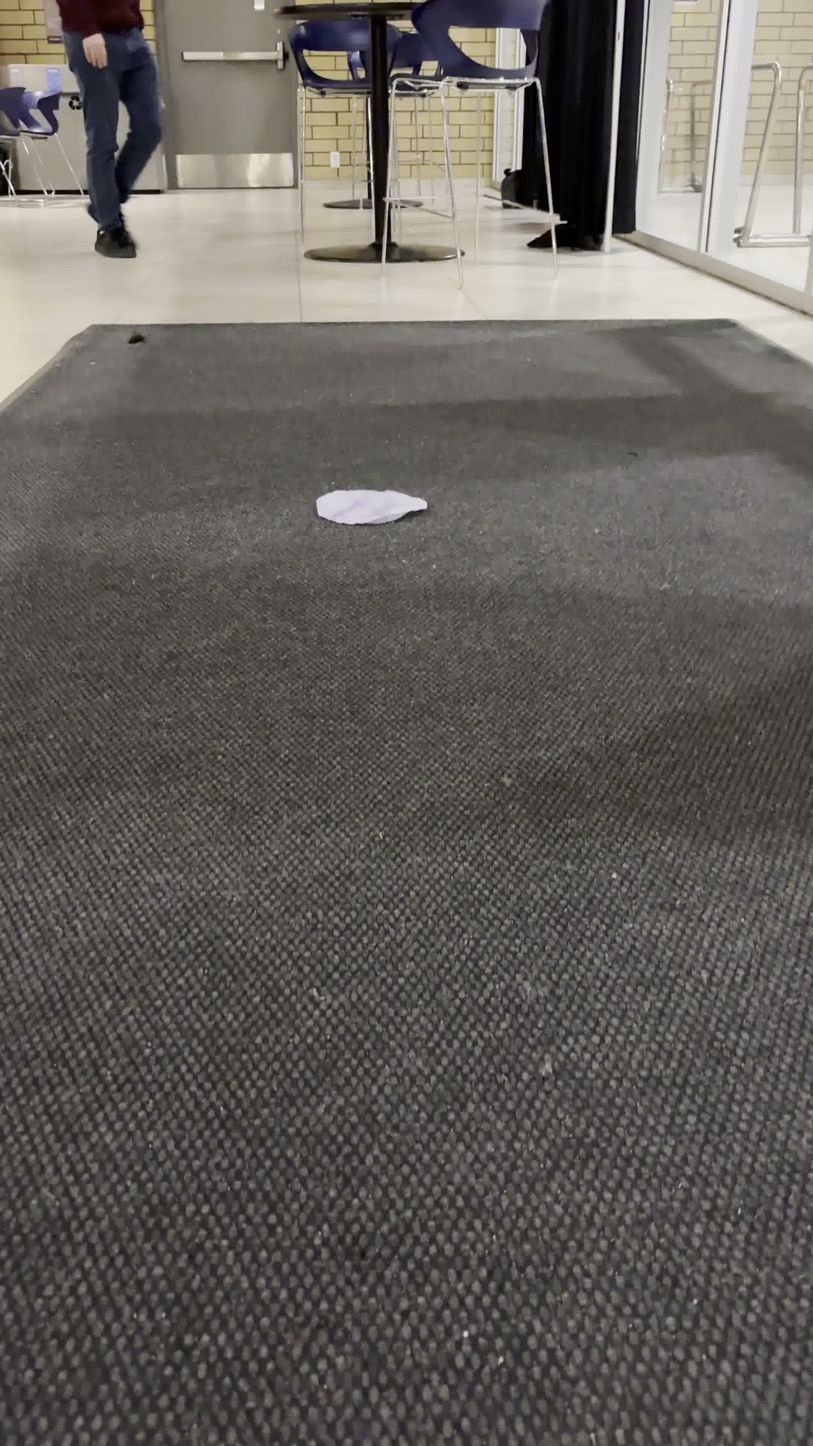Target: (308, 482, 431, 528)
